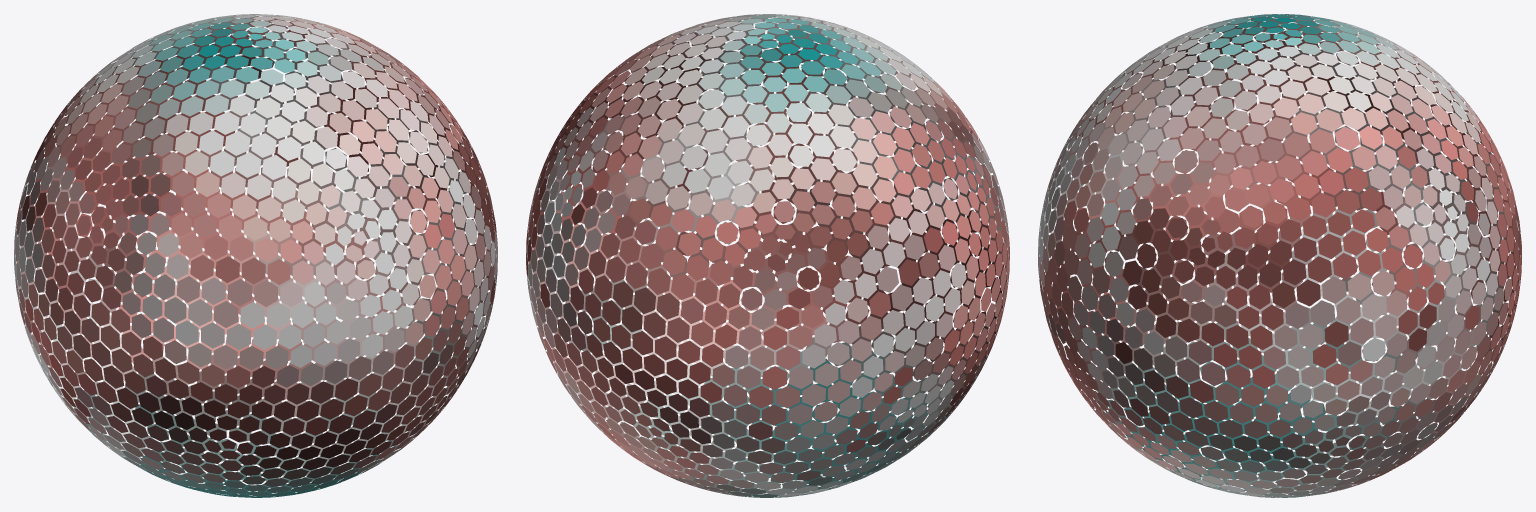
File: mass_earth.fbx
The picture shows the model from 3 angles, left to right: view 1: azimuth 30°, elevation 25°; view 2: azimuth 150°, elevation 25°; view 3: azimuth 270°, elevation 25°; orthographic projection.
Visible parts, largest first — view 1: mass_earth; view 2: mass_earth; view 3: mass_earth.
Boxes of the visible parts, x1=… form: mass_earth: x1=14, y1=14, x2=497, y2=497; mass_earth: x1=526, y1=14, x2=1009, y2=497; mass_earth: x1=1038, y1=14, x2=1521, y2=497.
Size of the model in its own units: 209 by 209 by 209.
